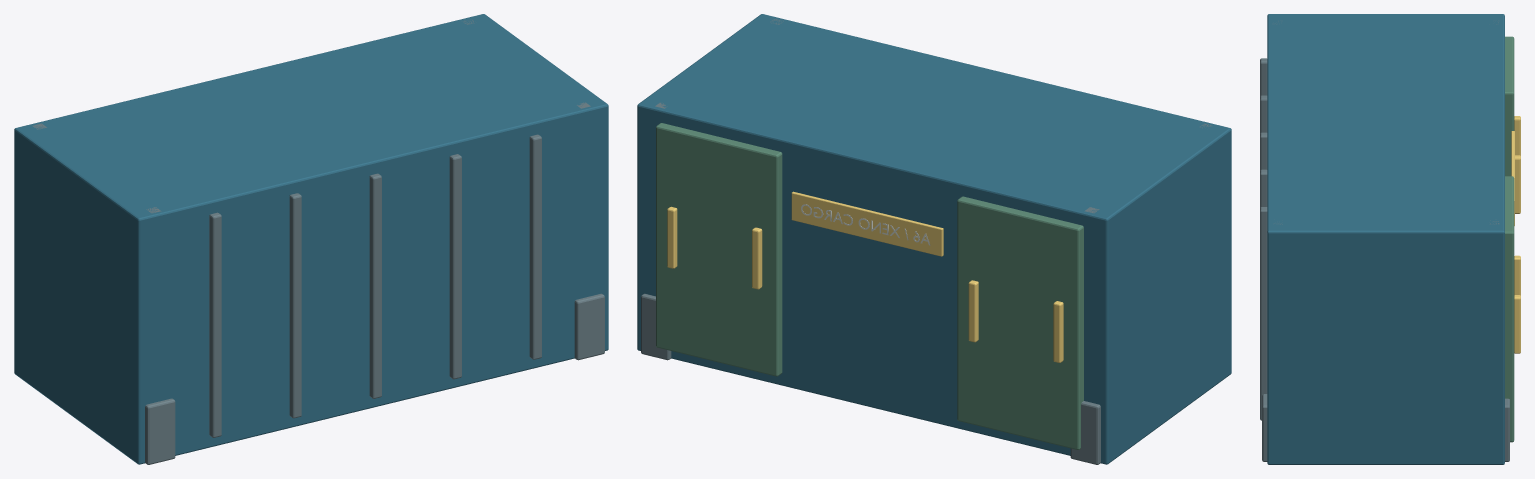
File: armored_container_d0.glb
3 views of the same model, side by side, from view 1: azimuth 30°, elevation 25°; view 2: azimuth 150°, elevation 25°; view 3: azimuth 270°, elevation 25° (orthographic). The views are drawn at different scales.
Parts seen in each view (by area): view 1: Container body.003, Corrugated side rib.015, Corrugated side rib.016, Corrugated side rib.018, Corrugated side rib.019, Corrugated side rib.017, ISO corner casting.012, ISO corner casting.014; view 2: Container body.003, Container door.007, Container door.006, Container ID.003, ISO corner casting.013, ISO corner casting.015, Door latch.012, Door latch.013, Door latch.014, Door latch.015, Container stencil.003; view 3: Container body.003, Container door.007, Corrugated side rib.019, Container door.006, Door latch.015, ISO corner casting.014, Door latch.013, ISO corner casting.015, Corrugated side rib.015, Corrugated side rib.016, Corrugated side rib.017, Corrugated side rib.018 (+1 smaller).
Part boxes in pixels (x1,y1,x2,y2): Container body.003: (14,14,608,464); Corrugated side rib.015: (209,212,221,437); Corrugated side rib.016: (289,193,301,418); Corrugated side rib.018: (449,154,461,379); Corrugated side rib.019: (529,134,541,359); Corrugated side rib.017: (369,173,381,398); ISO corner casting.012: (145,398,175,464); ISO corner casting.014: (574,293,604,360); Container body.003: (637,14,1231,464); Container door.007: (656,123,782,376); Container door.006: (957,196,1083,449); Container ID.003: (791,191,943,256); ISO corner casting.013: (1070,401,1100,464); ISO corner casting.015: (641,293,671,360); Door latch.012: (1053,301,1063,362); Door latch.013: (968,280,978,342); Door latch.014: (752,227,762,289); Door latch.015: (667,206,677,268); Container stencil.003: (801,204,930,245); Container body.003: (1267,14,1504,464); Container door.007: (1505,176,1514,442); Corrugated side rib.019: (1260,207,1267,420); Container door.006: (1505,36,1514,176); Door latch.015: (1514,295,1520,353); ISO corner casting.014: (1262,394,1267,461); Door latch.013: (1515,155,1520,213); ISO corner casting.015: (1505,398,1509,461); Corrugated side rib.015: (1260,58,1267,96); Corrugated side rib.016: (1260,95,1267,133); Corrugated side rib.017: (1260,132,1267,170); Corrugated side rib.018: (1260,169,1267,207).
Bounding box in the file's own units: 5 × 2.5 × 2.52.
